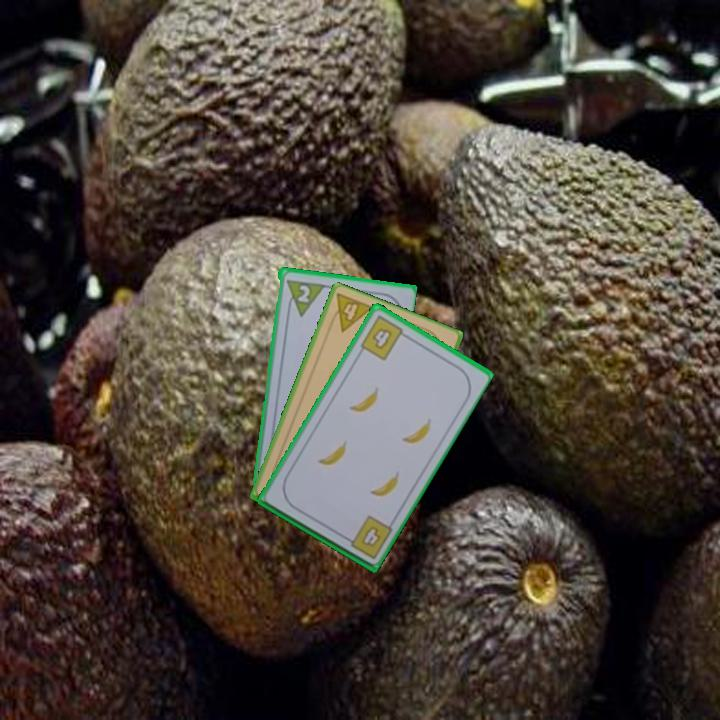2p: (293, 281, 313, 305)
4b: (356, 312, 411, 363), (340, 512, 395, 562)
4p: (324, 290, 376, 335)
